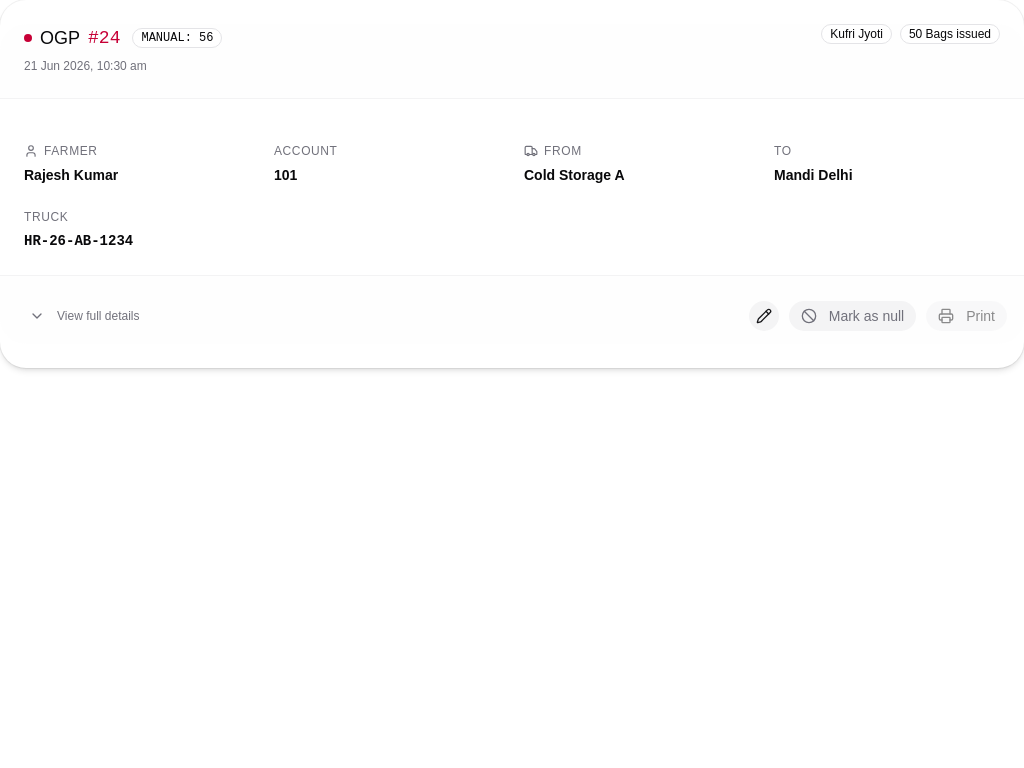
Test: OutgoingGatePassCard mark as null › marks the gate pass as null with remarks and closes the dialog
Click the button with aria-label "mark outgoing gate pass 24 as null" at (852, 316), box x1=788 y1=300 x2=917 y2=332
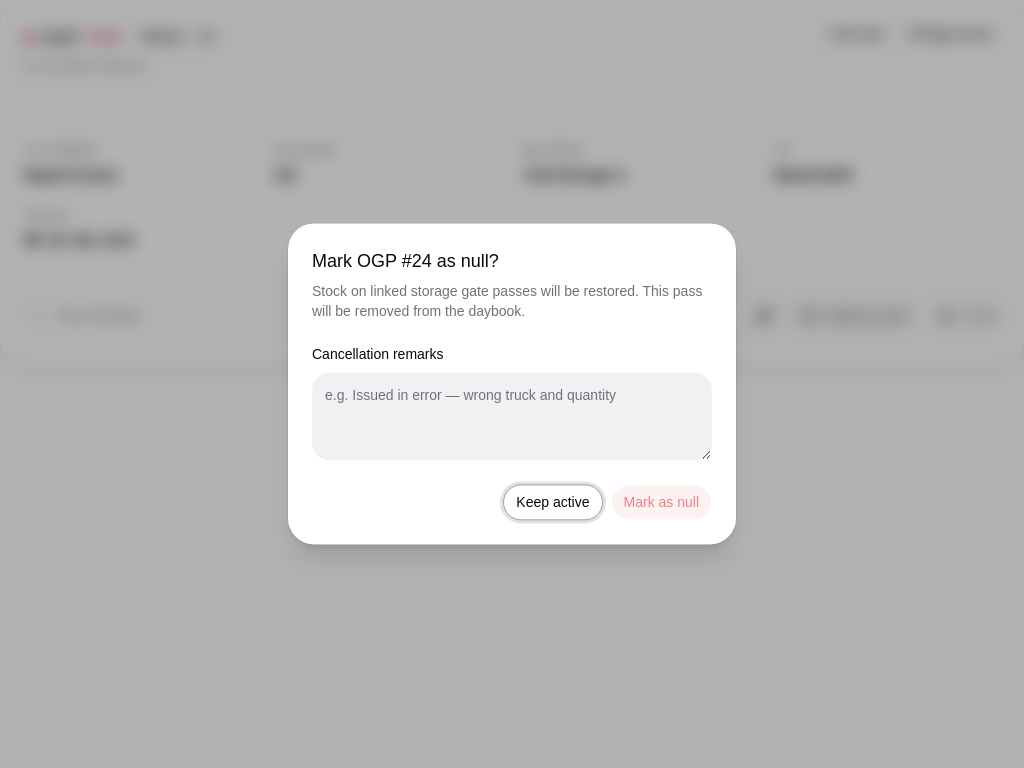
Type "Issued in error" into the text box with placeholder "e.g. Issued in error — wrong truck and quantity" at (512, 417), box x1=312 y1=373 x2=712 y2=461
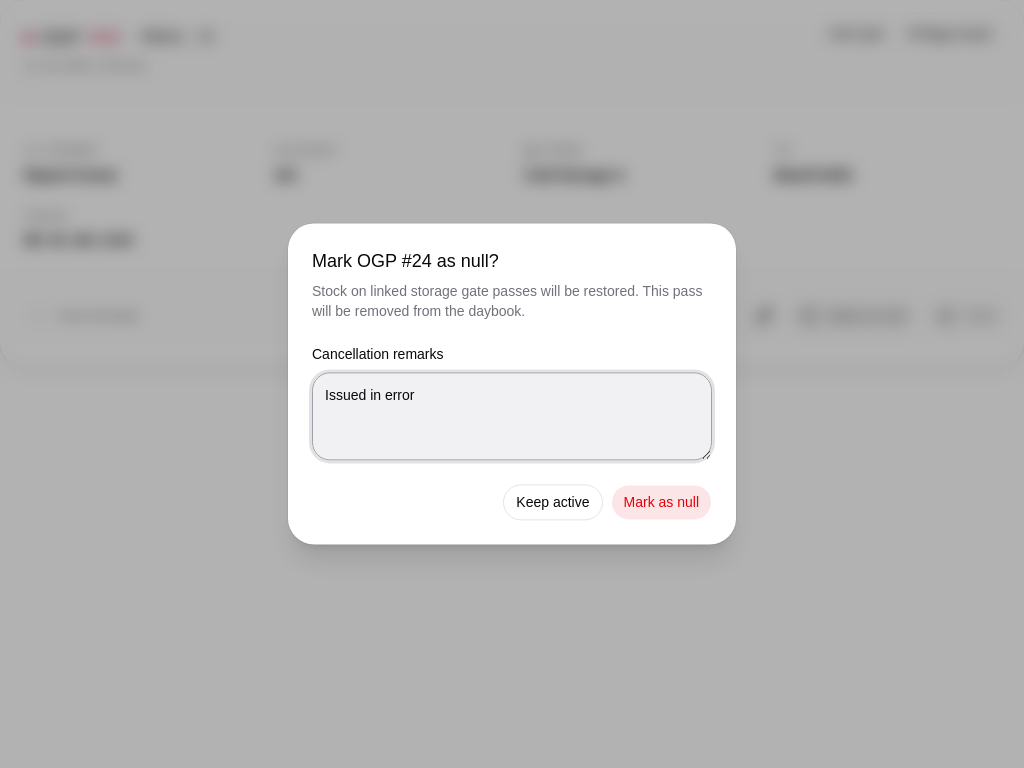
Click the button "Mark as null" at (661, 503), box x1=610 y1=485 x2=712 y2=521
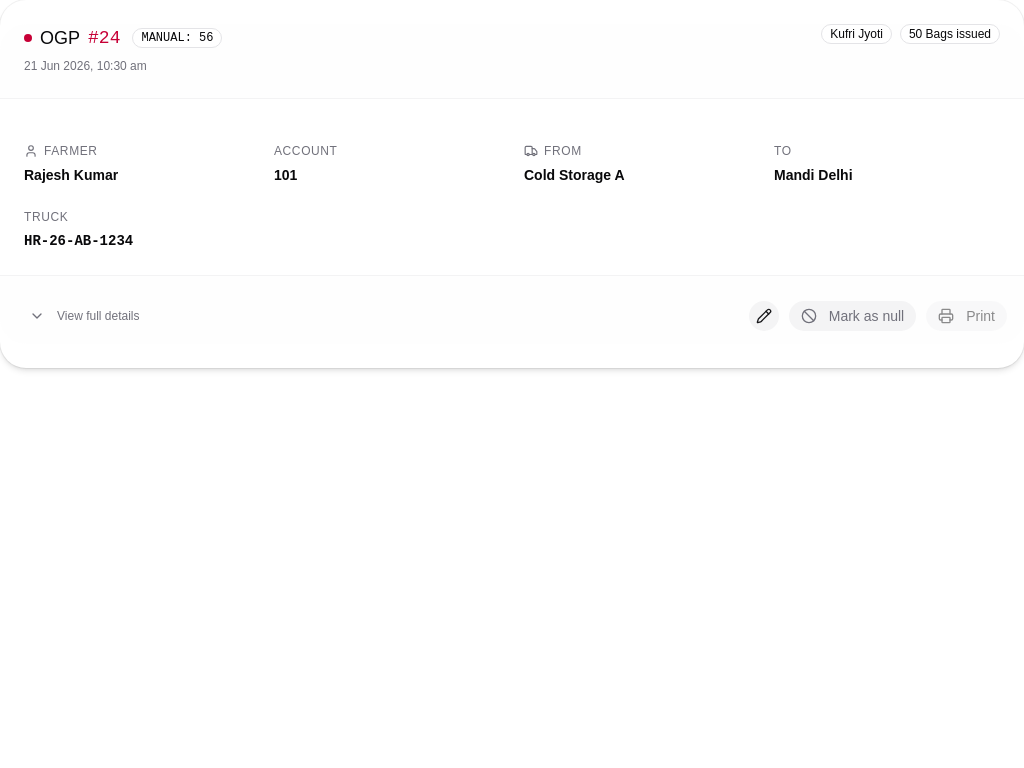
Expected: the heading "Mark OGP #24 as null" is gone
